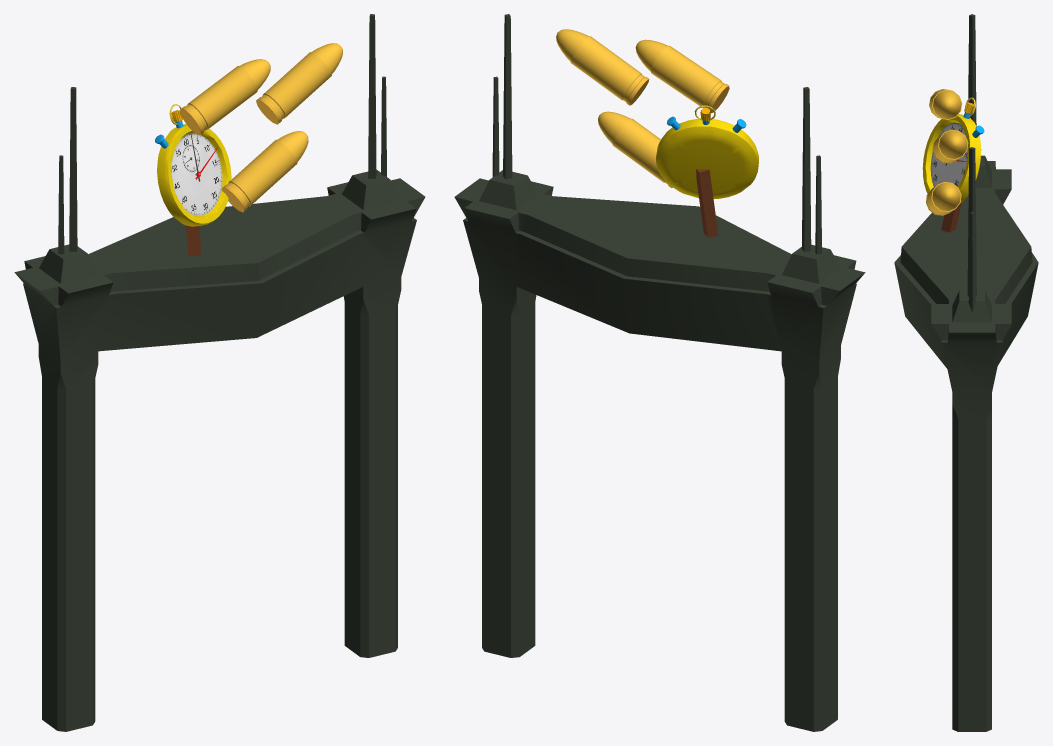
Rendered from gate3.fbx.
3 views of the same model, side by side, from view 1: azimuth 30°, elevation 25°; view 2: azimuth 150°, elevation 25°; view 3: azimuth 270°, elevation 25° (orthographic). The views are drawn at different scales.
Visible parts, largest first — view 1: military_gate_rate; view 2: military_gate_rate; view 3: military_gate_rate.
Part boxes in pixels (x1=…): military_gate_rate: x1=14, y1=14, x2=425, y2=731; military_gate_rate: x1=454, y1=14, x2=865, y2=731; military_gate_rate: x1=894, y1=14, x2=1038, y2=731.
Bounding box in the file's own units: 211 × 330 × 75.01.
Materials: 3 (2 with a texture image).
